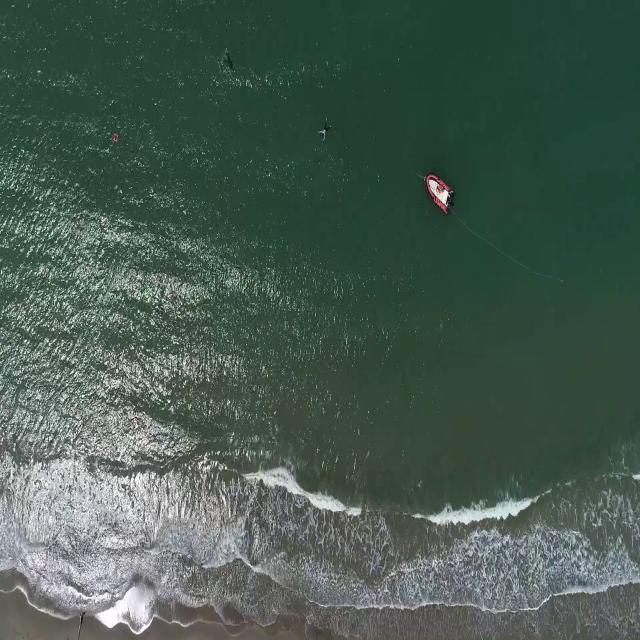boat: (426, 171, 454, 216)
life_buoy: (112, 130, 120, 142)
person: (319, 118, 332, 144), (222, 51, 237, 73)
wood: (74, 606, 87, 640)
